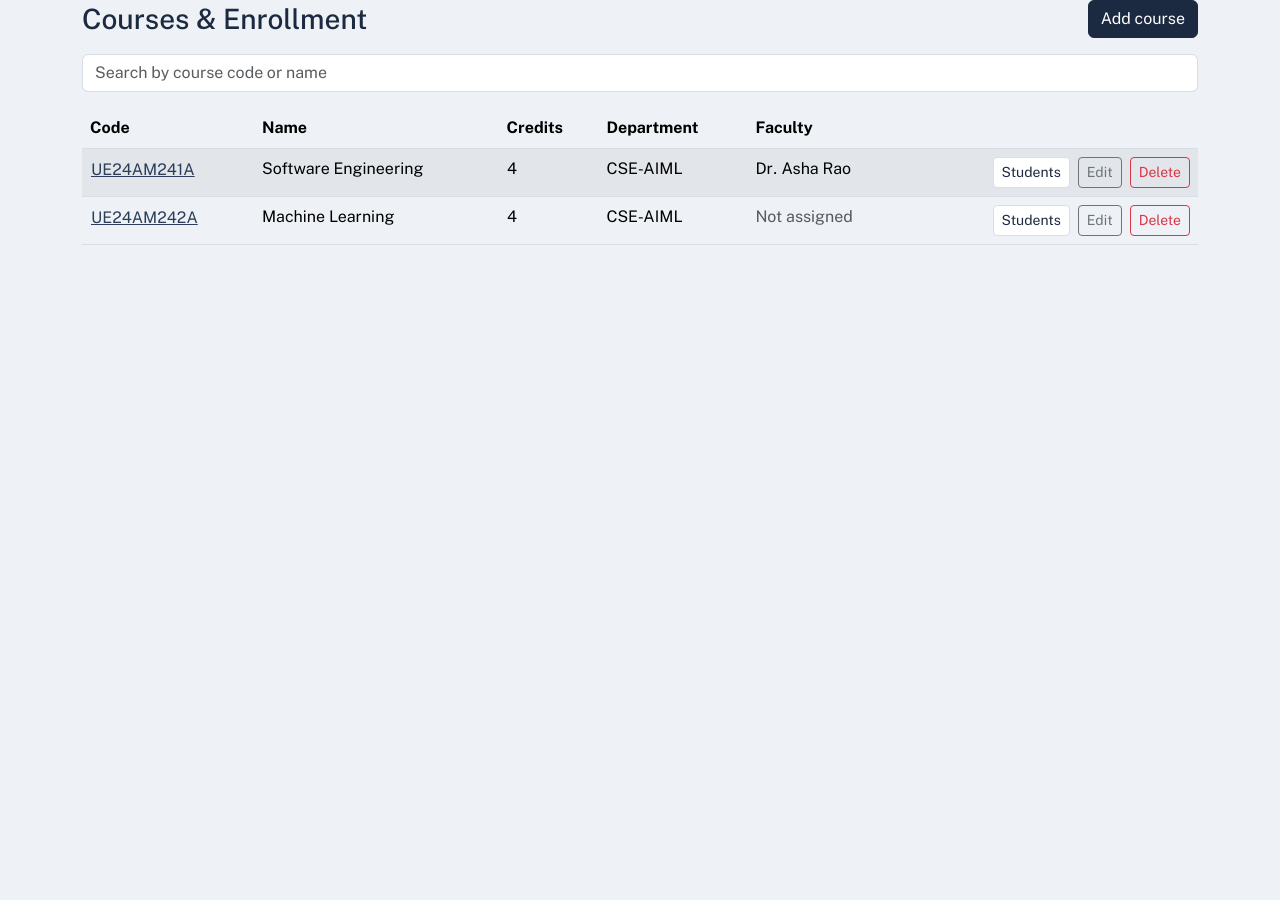
Scenario: Admin Courses page (issue #11) › edits a course
Click the button with aria-label "Edit UE24AM242A" at (1100, 220), box [1078, 205, 1122, 236]
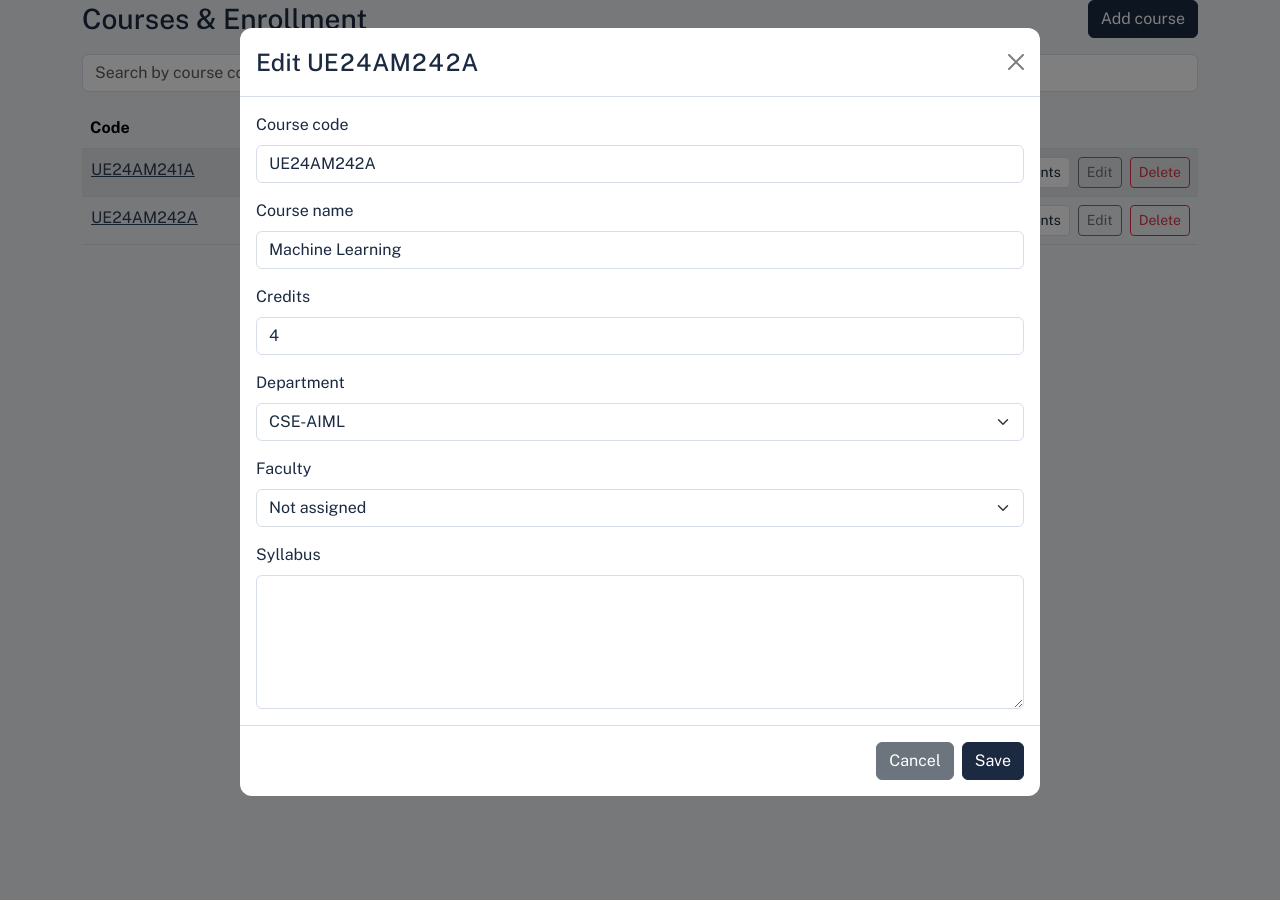
Expected: the field labelled "Course name" holds "Machine Learning"
Replace the text in the field labelled "Course name" with "ML" at (640, 250), box [256, 231, 1024, 269]
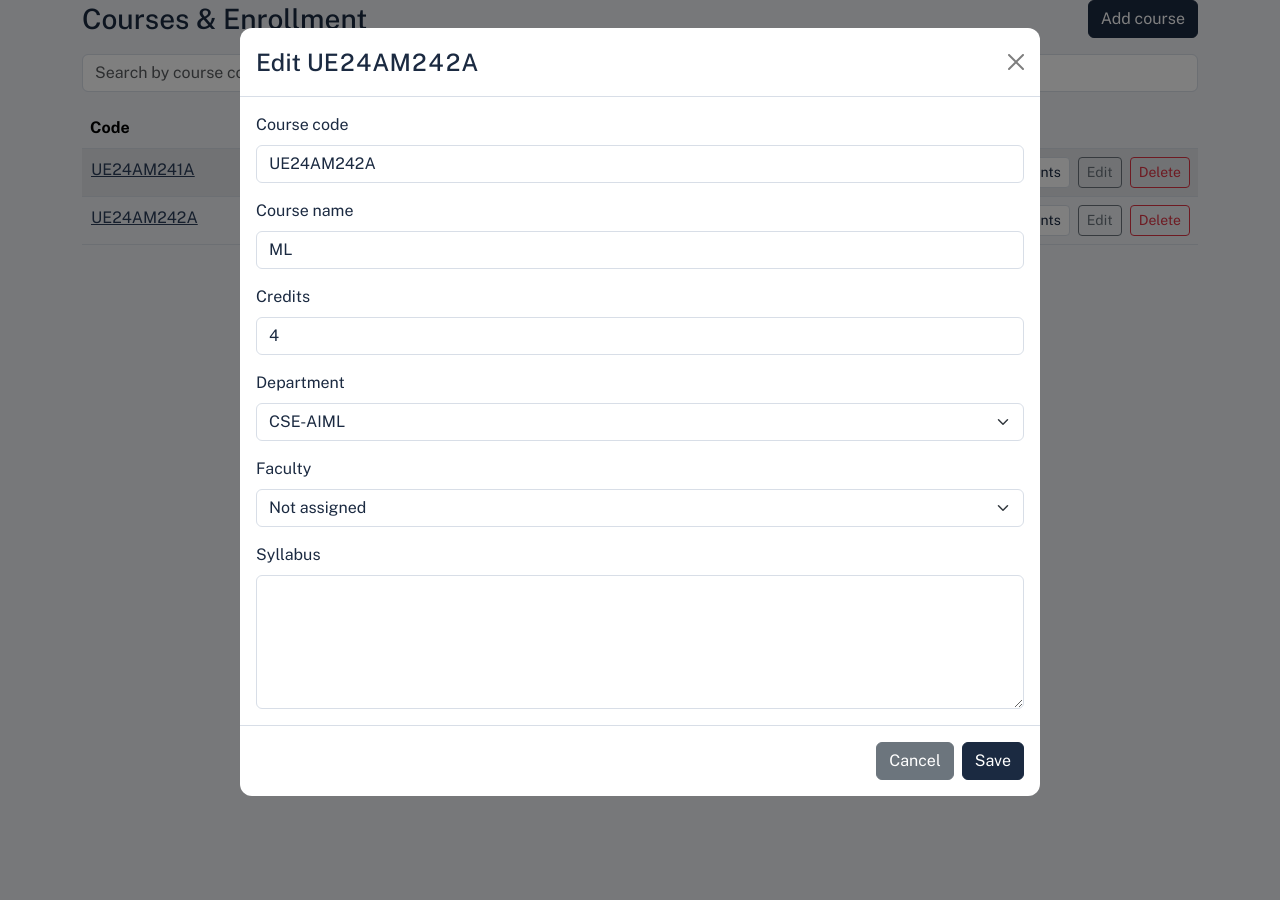
Click the button "Save" at (993, 761), box [962, 742, 1024, 780]
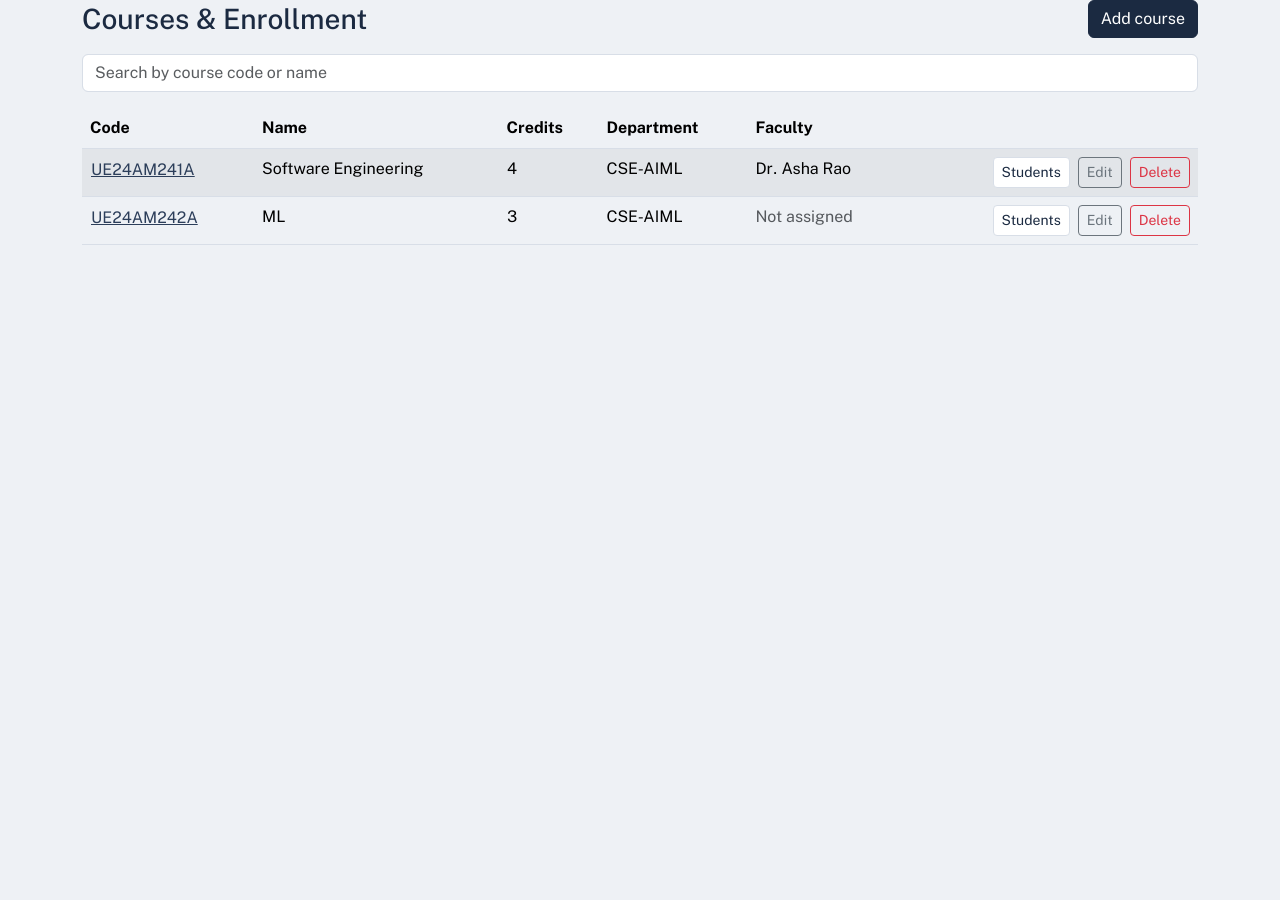
Expected: the text "ML" is shown, [254, 196, 499, 244]
